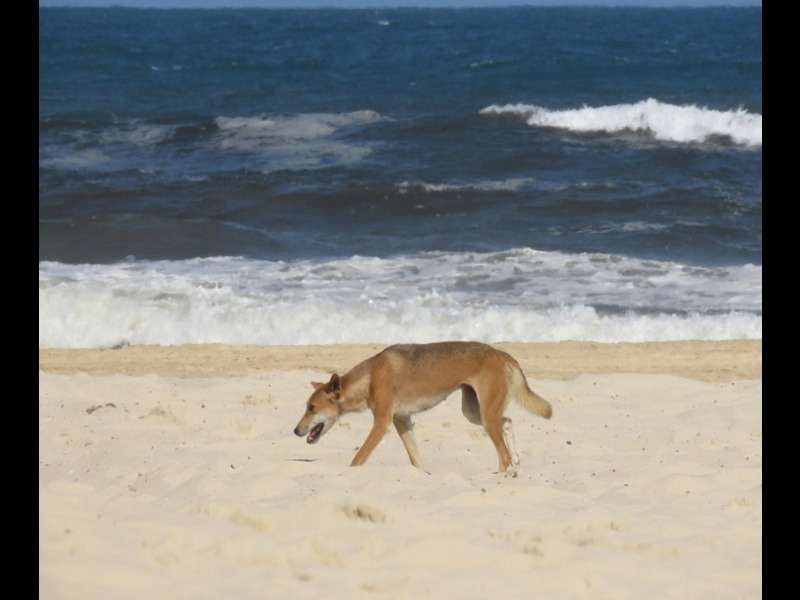dog: (290, 340, 557, 490)
